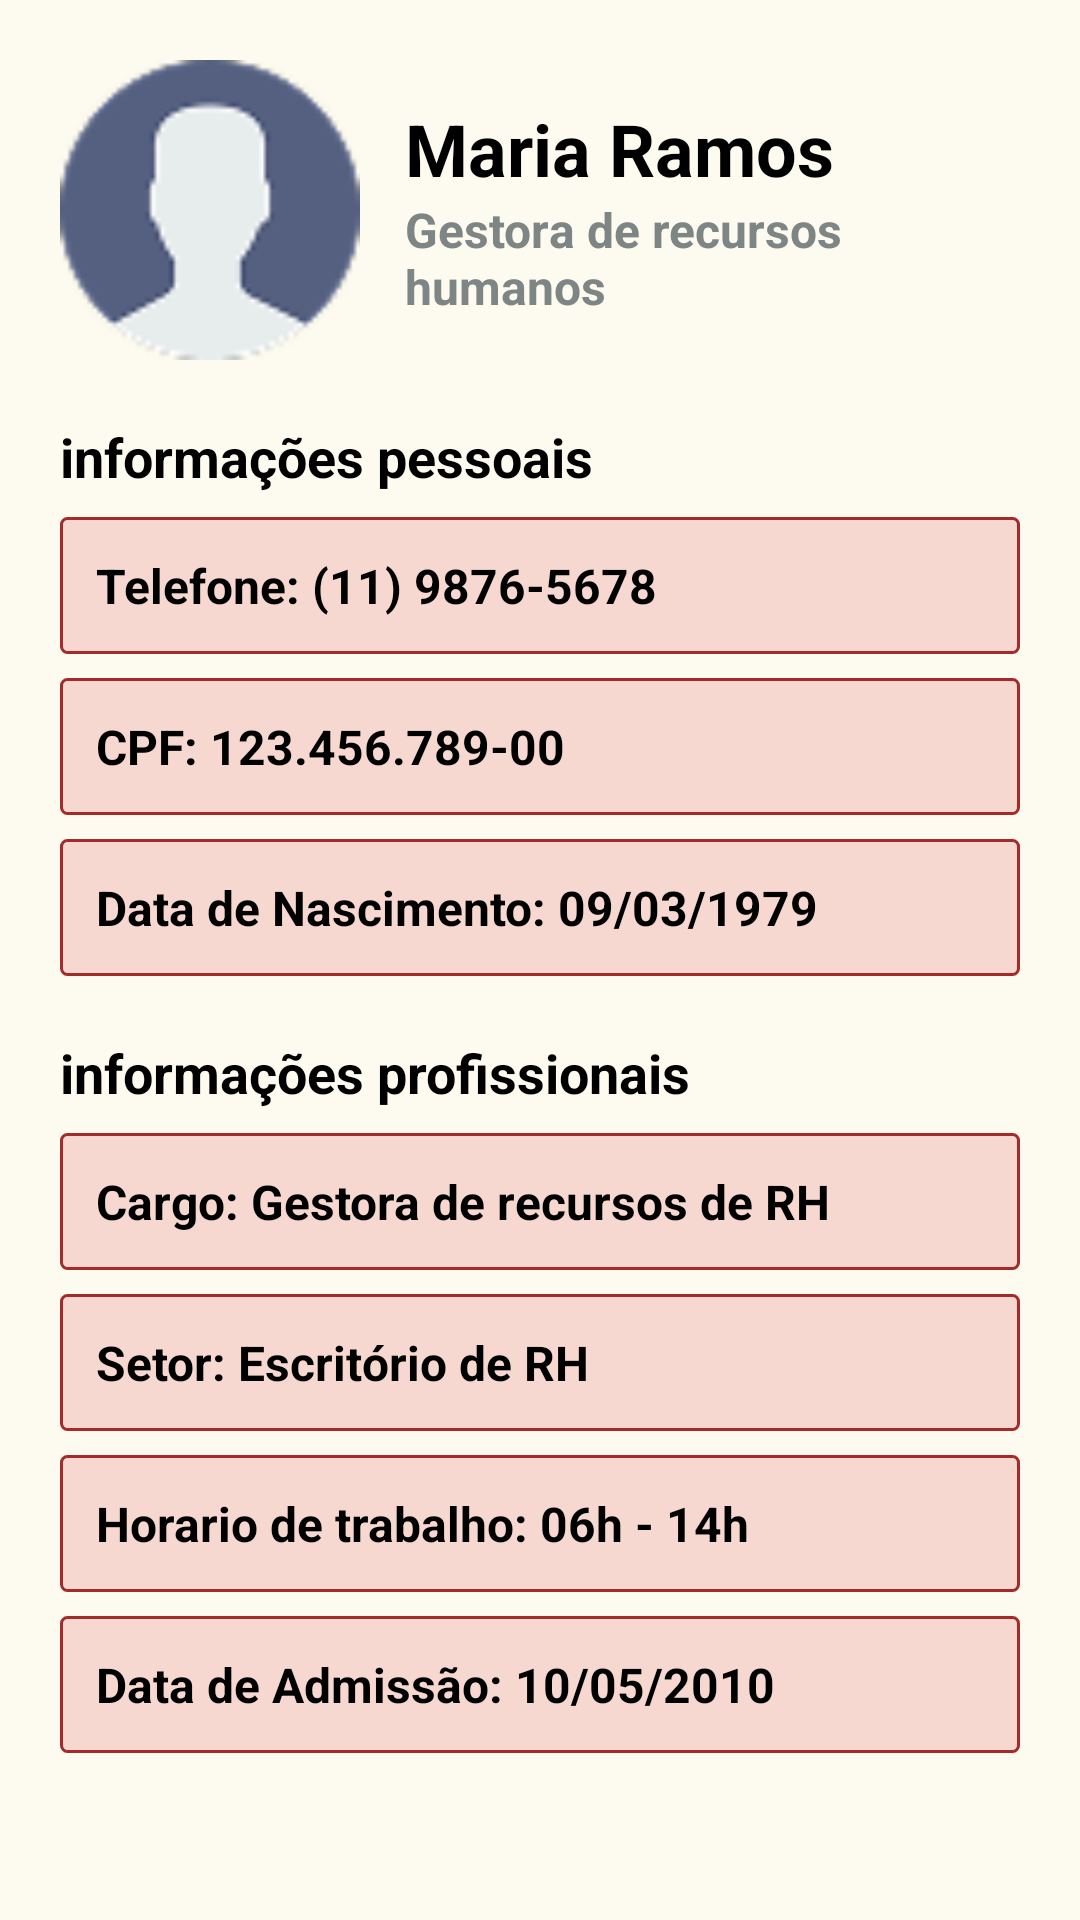

Screen size 1080px×1920px. Icon name, then its box in pixels as (x1=x1, y1=y1, x2=x2, y2=y2):
user circle: (x1=60, y1=60, x2=360, y2=360)
